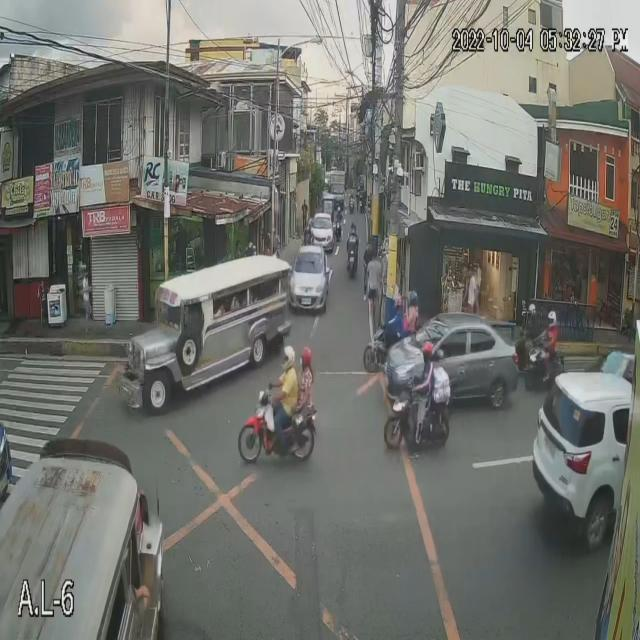full: (278, 344, 297, 372), (546, 311, 558, 330)
half: (299, 346, 312, 368), (420, 340, 432, 361)
